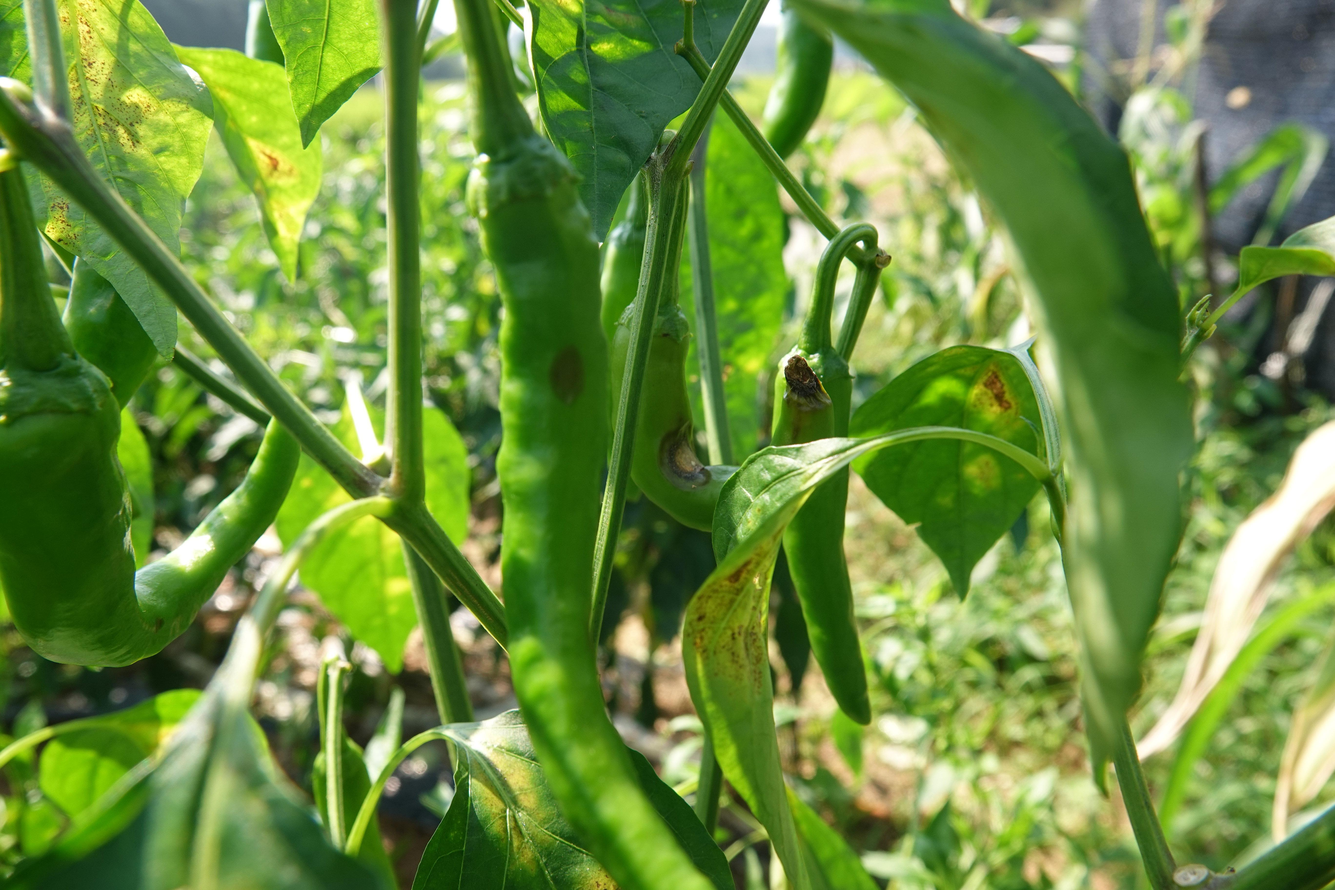Bercak Daun Serkospora: (677, 423, 859, 890), (847, 348, 1054, 607)
Buah Cabai Sehat: (0, 359, 307, 672)
Busuk Buah Antraknosa: (459, 148, 728, 890), (617, 291, 831, 540), (763, 346, 876, 735)
